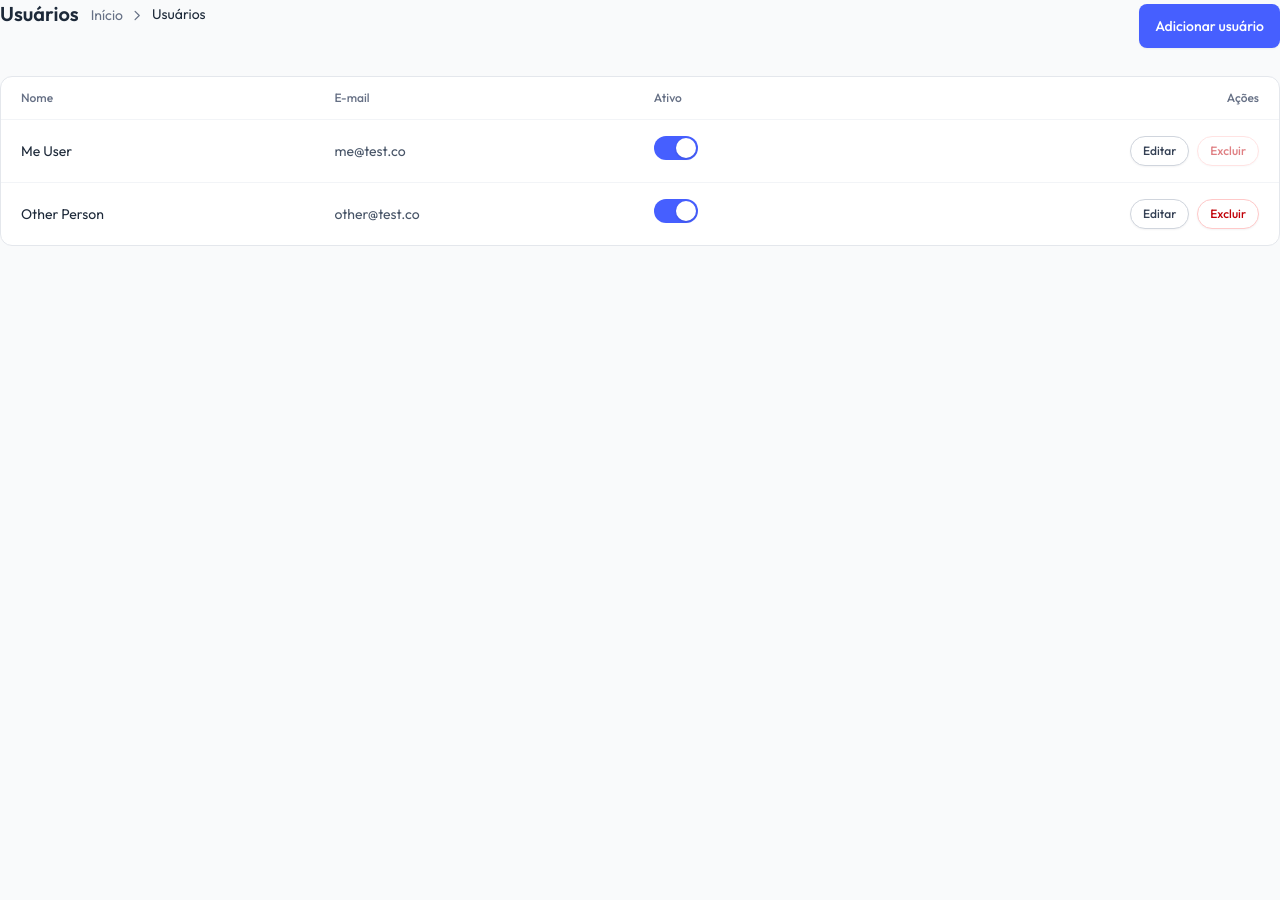
it: UsersManagement › deletes another user when confirmed
The width and height of the screenshot is (1280, 900).
Click the button "Excluir" in the row of "Other Person": (1228, 214) [1197, 199, 1259, 229]
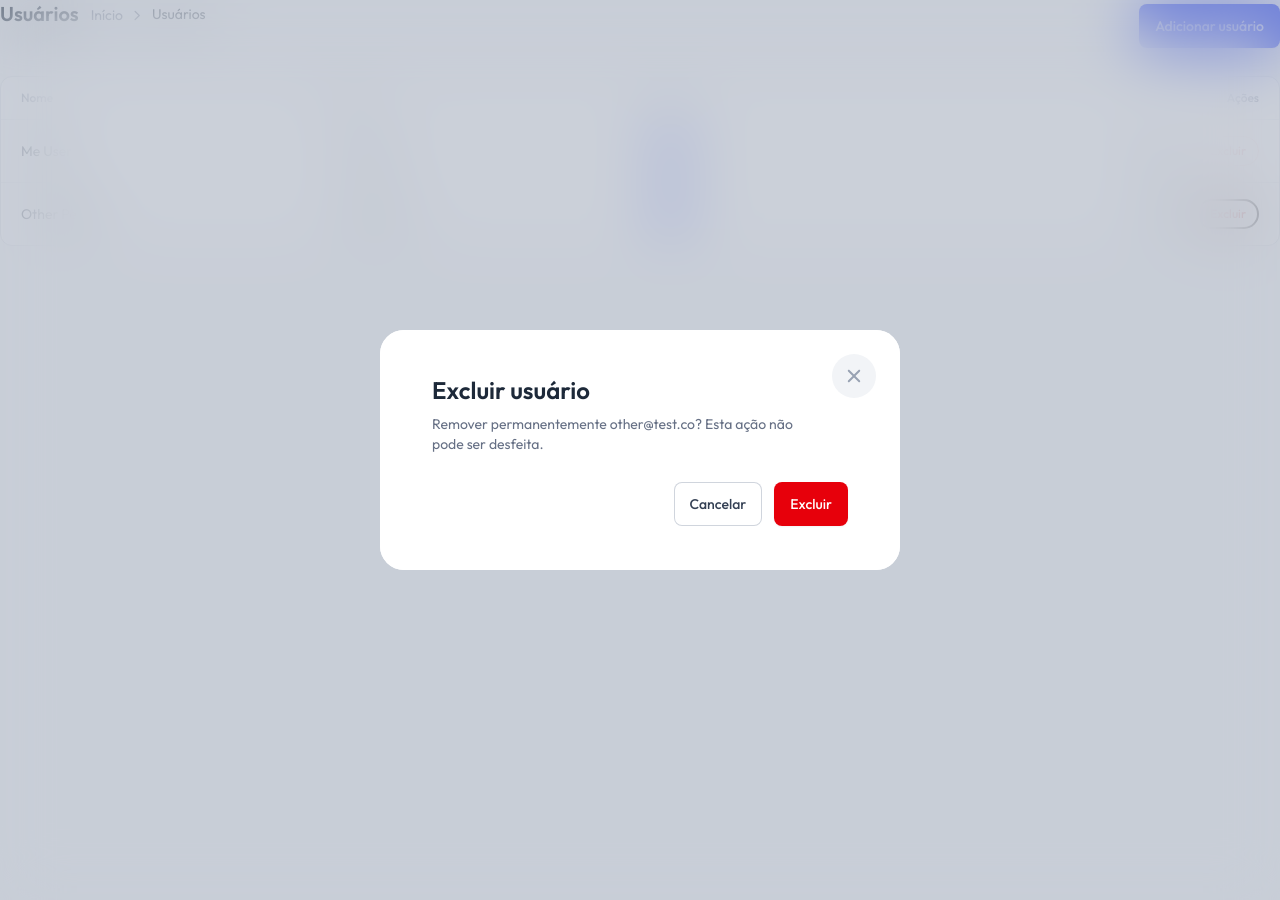
expect the button "Excluir" is shown: met
Click the button "Excluir": (811, 504) [774, 482, 848, 526]
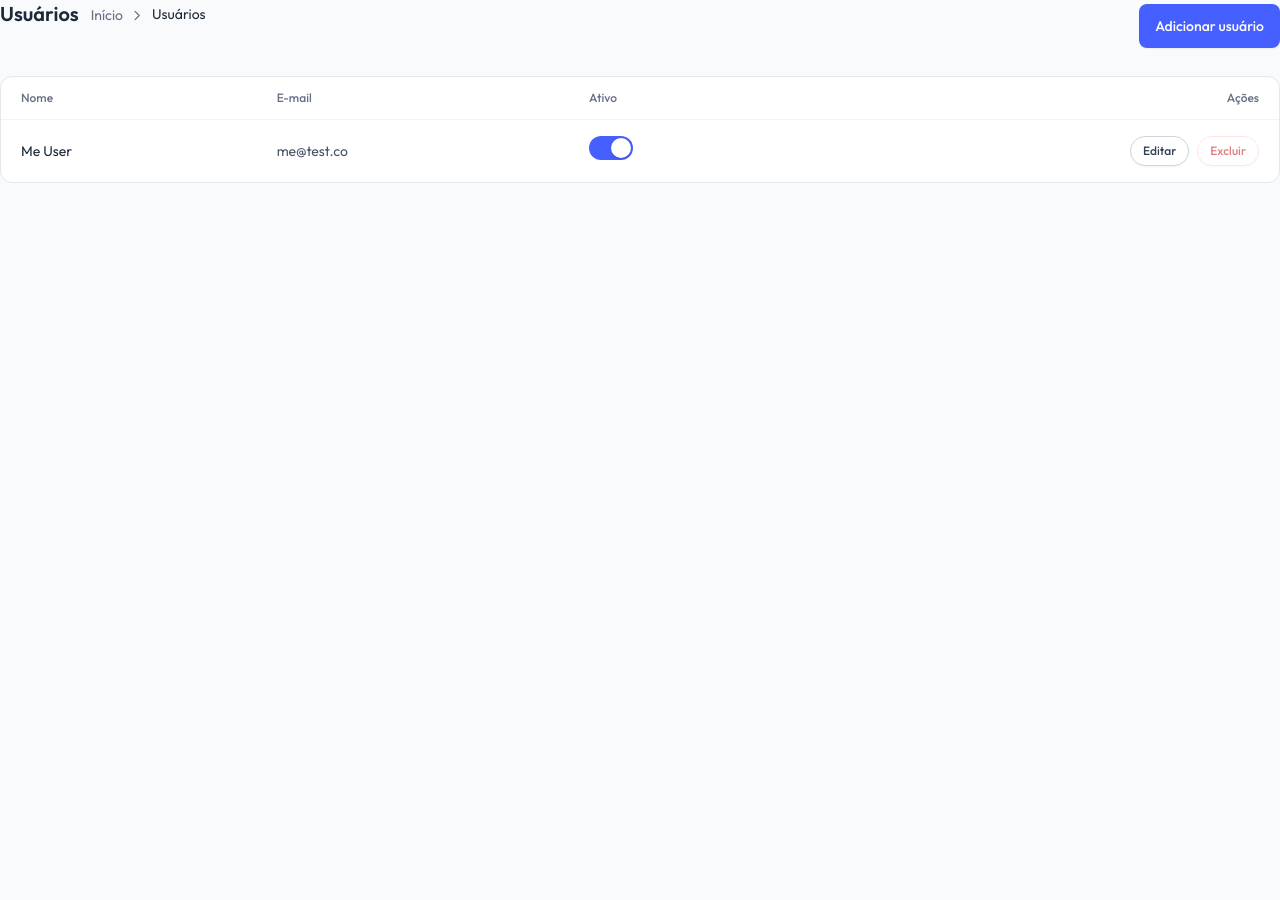
expect the text "other@test.co" is gone: met
